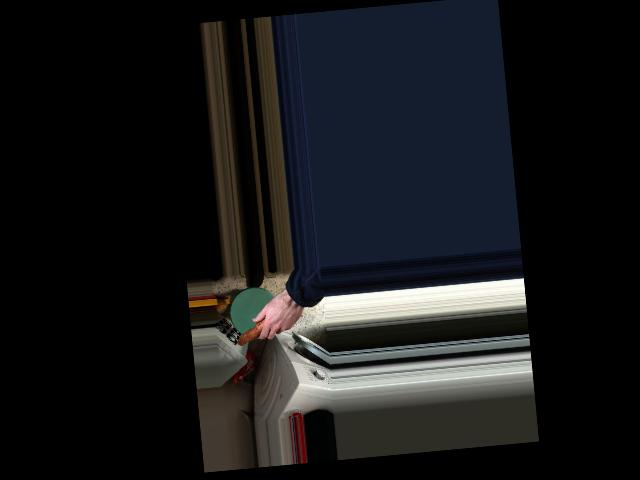sweet_potato: (236, 303, 290, 346)
